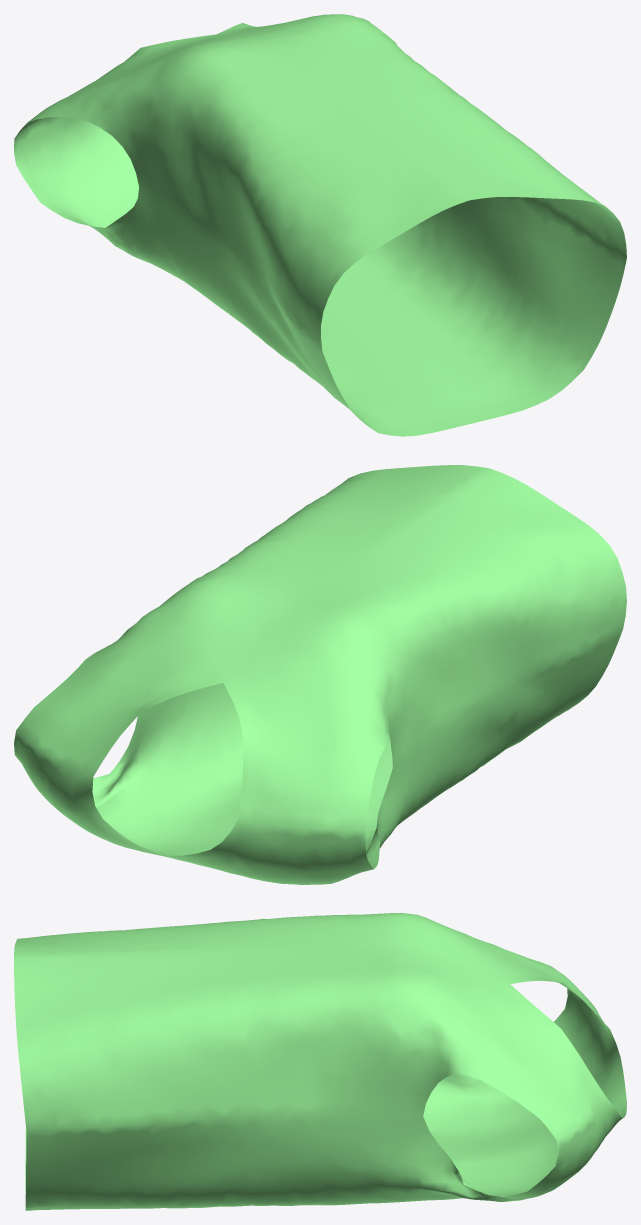
Rendered from tshirt_FRONT_15875.fbx.
3 views of the same model, one above another, from view 1: azimuth 30°, elevation 25°; view 2: azimuth 150°, elevation 25°; view 3: azimuth 270°, elevation 25° (orthographic). The views are drawn at different scales.
Parts seen in each view (by area): view 1: tri_15; view 2: tri_15; view 3: tri_15.
Part boxes in pixels (bbox=[...]): tri_15: bbox=[14, 14, 626, 436]; tri_15: bbox=[14, 465, 626, 884]; tri_15: bbox=[14, 913, 626, 1210].
Bounding box in the file's own units: 15.19 × 9.92 × 23.62.
